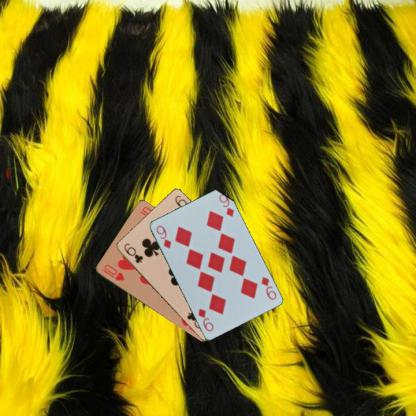10h: (100, 262, 126, 282)
6c: (121, 240, 144, 265)
9d: (258, 274, 278, 301), (153, 223, 172, 250)
